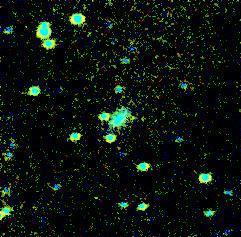star: (116, 104, 146, 134)
